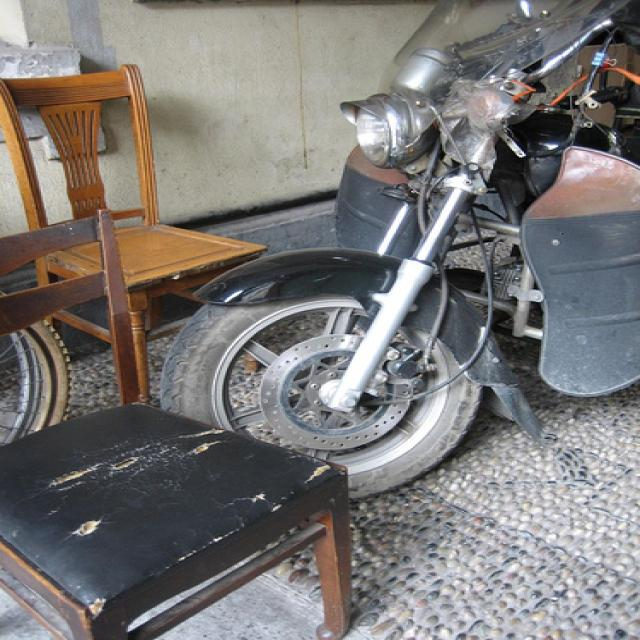motor: (167, 5, 638, 496)
